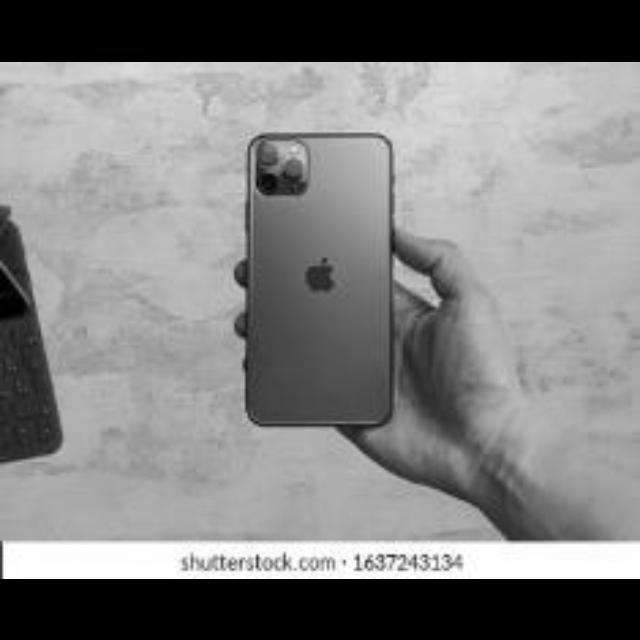fake: (238, 119, 400, 438)
